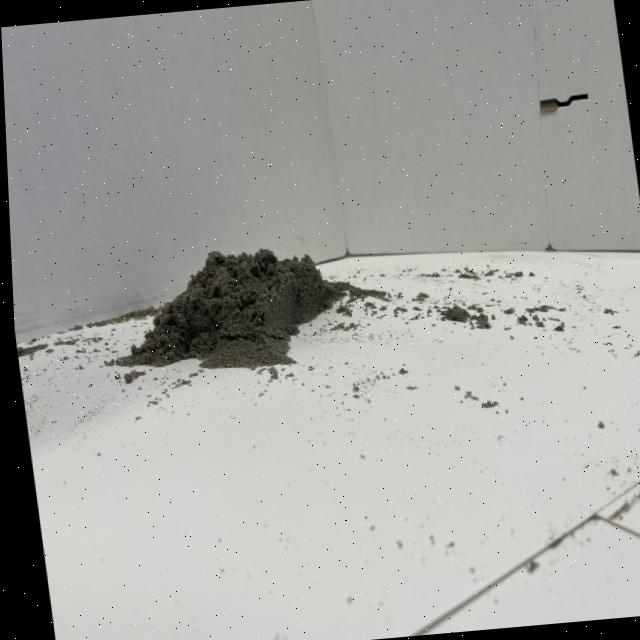sand: (123, 222, 374, 390)
